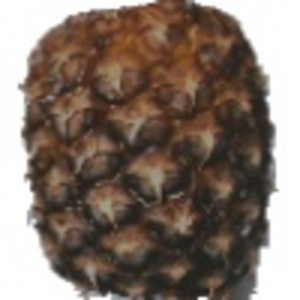abacaxi: (17, 1, 279, 295)
